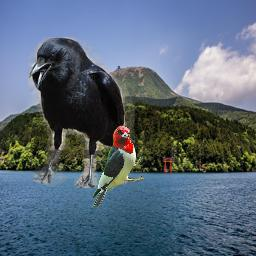Crow: (28, 37, 135, 188)
Woodpecker: (90, 125, 144, 207)
